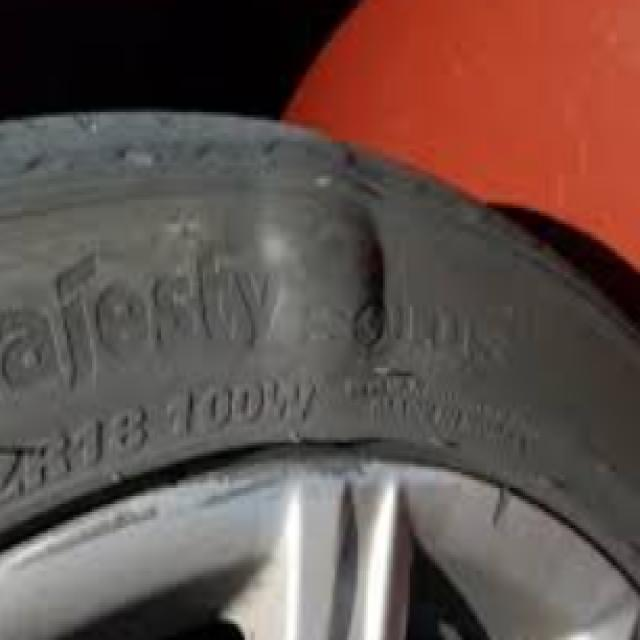Bulge: (229, 166, 392, 425)
